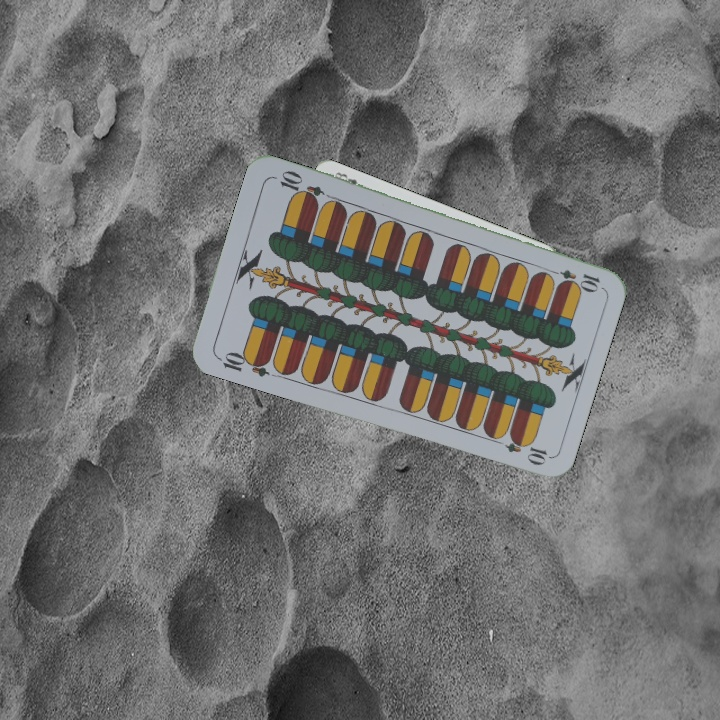E10: (213, 347, 272, 380), (544, 265, 603, 292)
